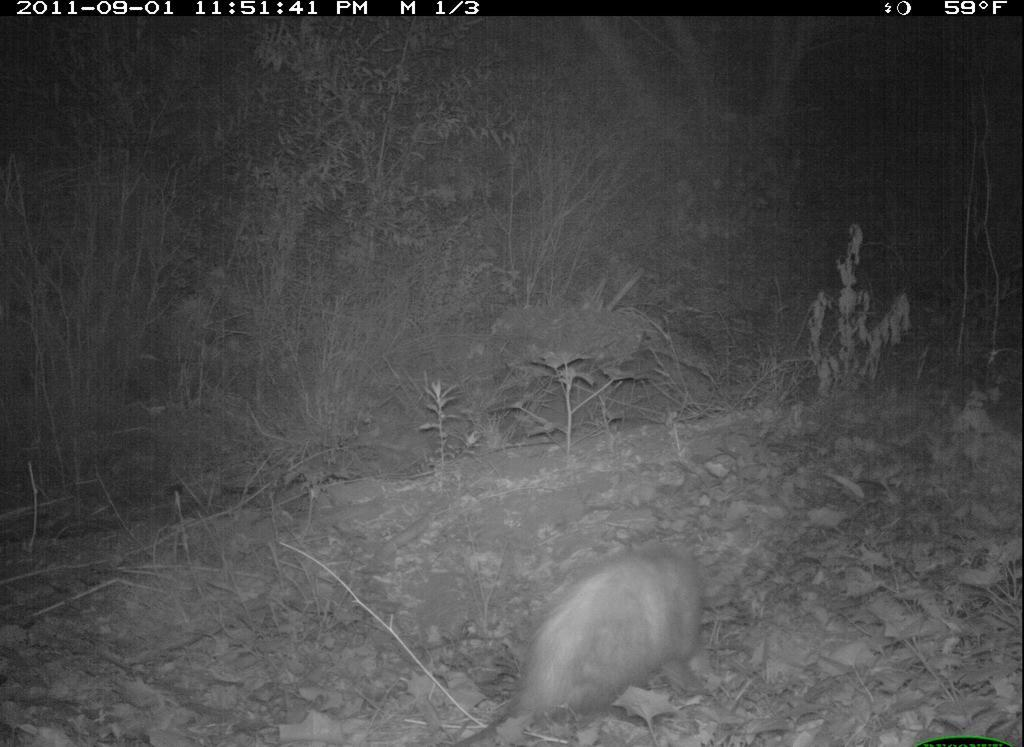opossum: (505, 524, 742, 722)
